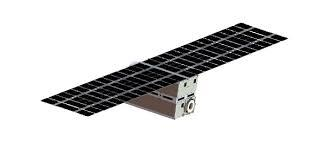body: (121, 70, 201, 123)
solar: (38, 19, 292, 121)
